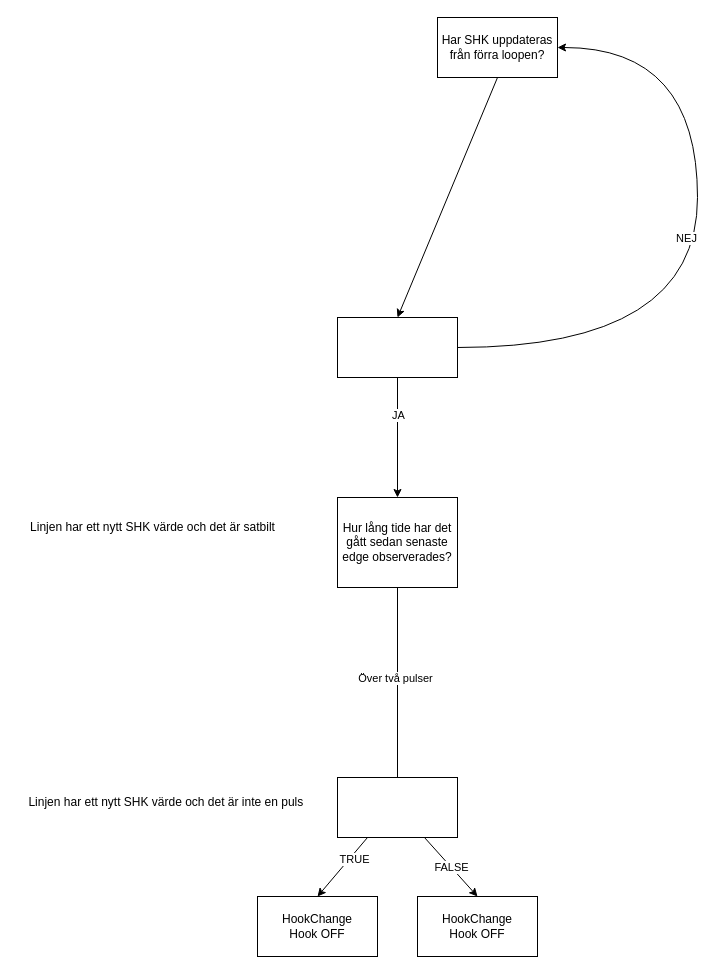
Some shapes in this 715 by 974 pixel diagram are drawn without their labels. The shapes that lost their labels are listed below. From the top down, each one's centre as x and y in pixels, then its label:
At [397,347]: "Har Debouncing passerats?".
At [397,807]: "Vilket värde har newSHK?".
